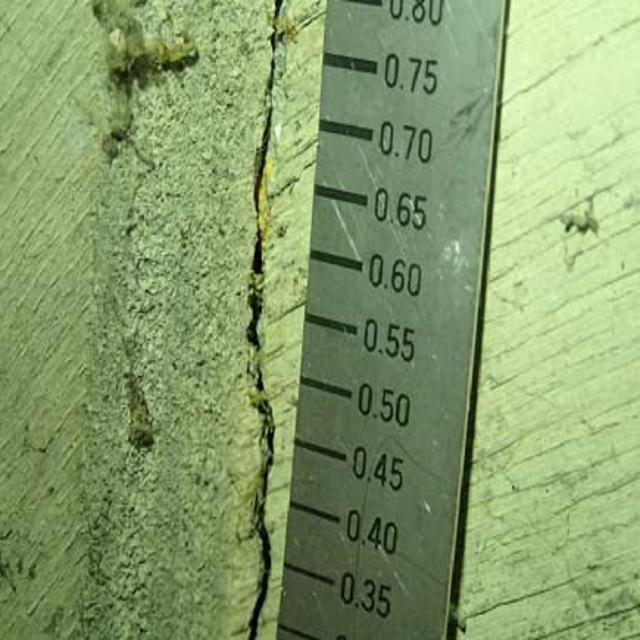crack: (222, 6, 292, 620)
